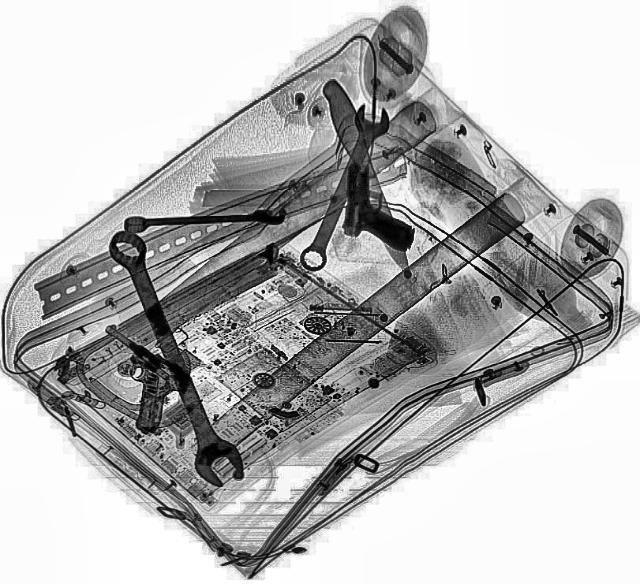Gun: (58, 320, 200, 434), (340, 161, 418, 249)
Knife: (315, 76, 419, 280)
Wrench: (91, 225, 253, 493), (289, 101, 397, 273), (124, 206, 284, 232)
